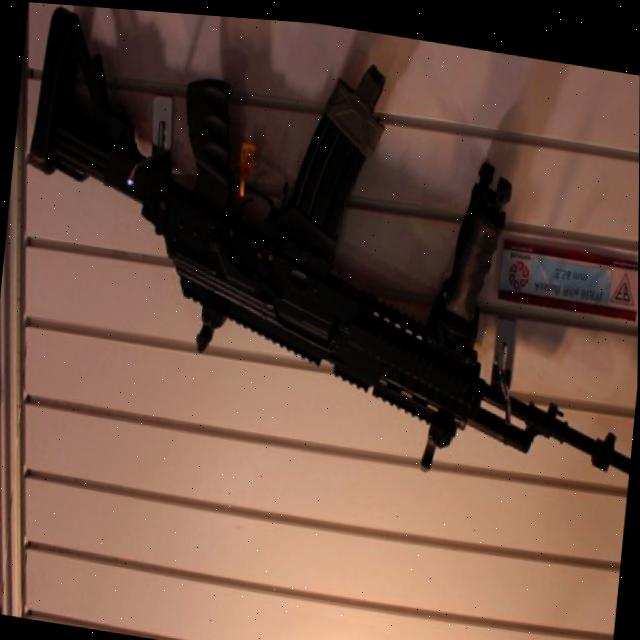firearm: (2, 0, 640, 493)
